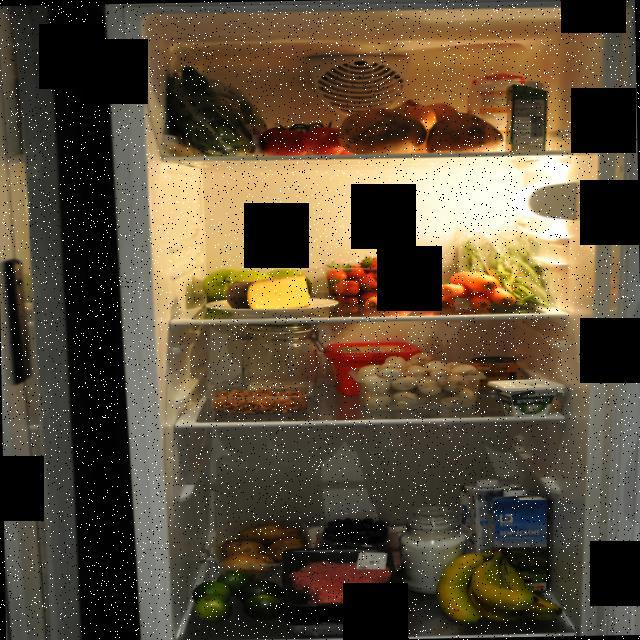Cebolla: (390, 98, 460, 128)
Champiñones: (350, 352, 486, 410)
Gambas/Langostinos: (207, 390, 316, 410)
Leche: (488, 487, 552, 598), (460, 475, 521, 578)
Mantequilla: (323, 337, 419, 396)
Manzana: (204, 263, 311, 301)
Patata: (215, 516, 308, 572)
Plátano: (434, 546, 568, 624)
Queso: (222, 272, 318, 312)
Tomate: (258, 122, 358, 156)
Zanahoria: (433, 270, 520, 312), (362, 289, 429, 313)
